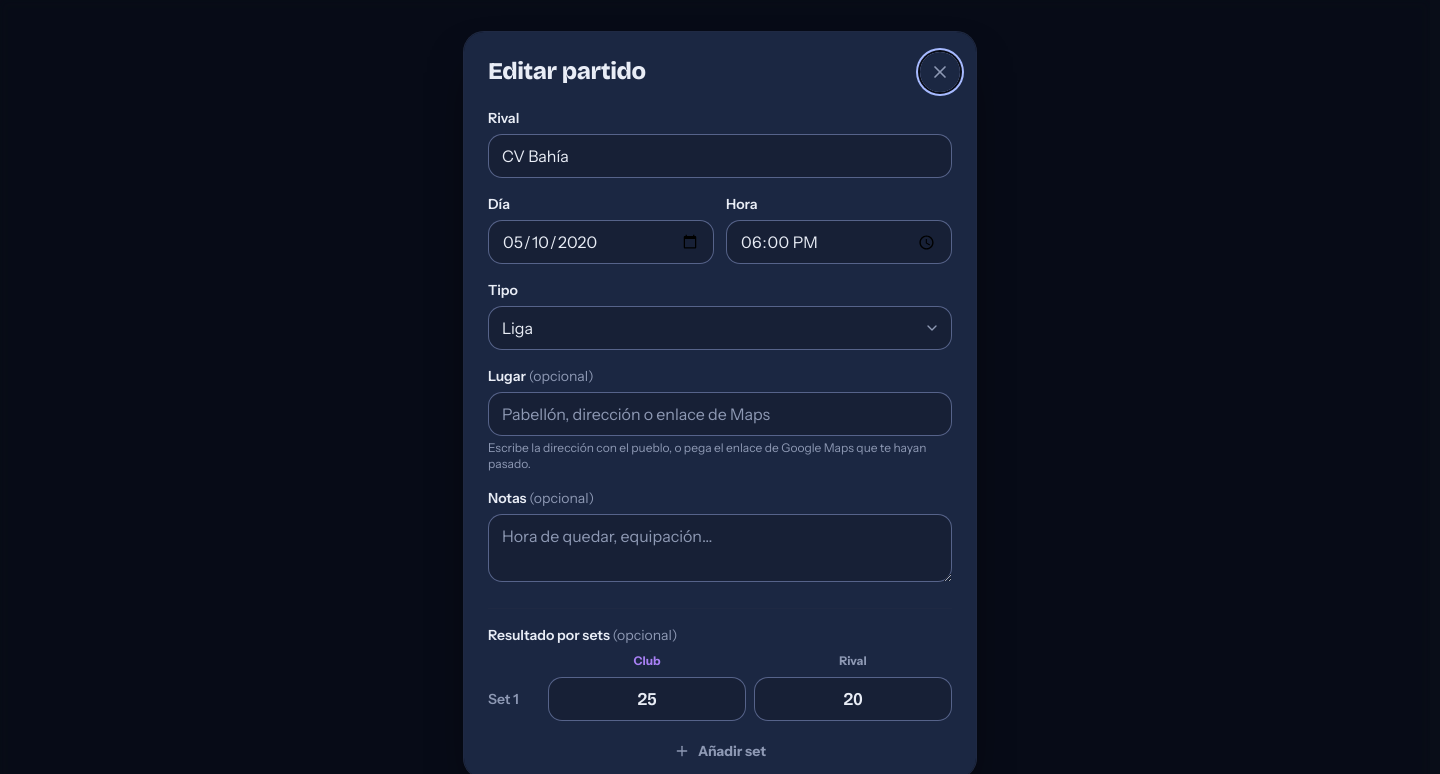
Scenario: MatchDialog › no deja guardar un set empatado ni uno a medias
Replace the text in the field named "Set 1, puntos del rival" with "25" at coordinates (853, 699), box [754,677,952,721]
(page scrolled)
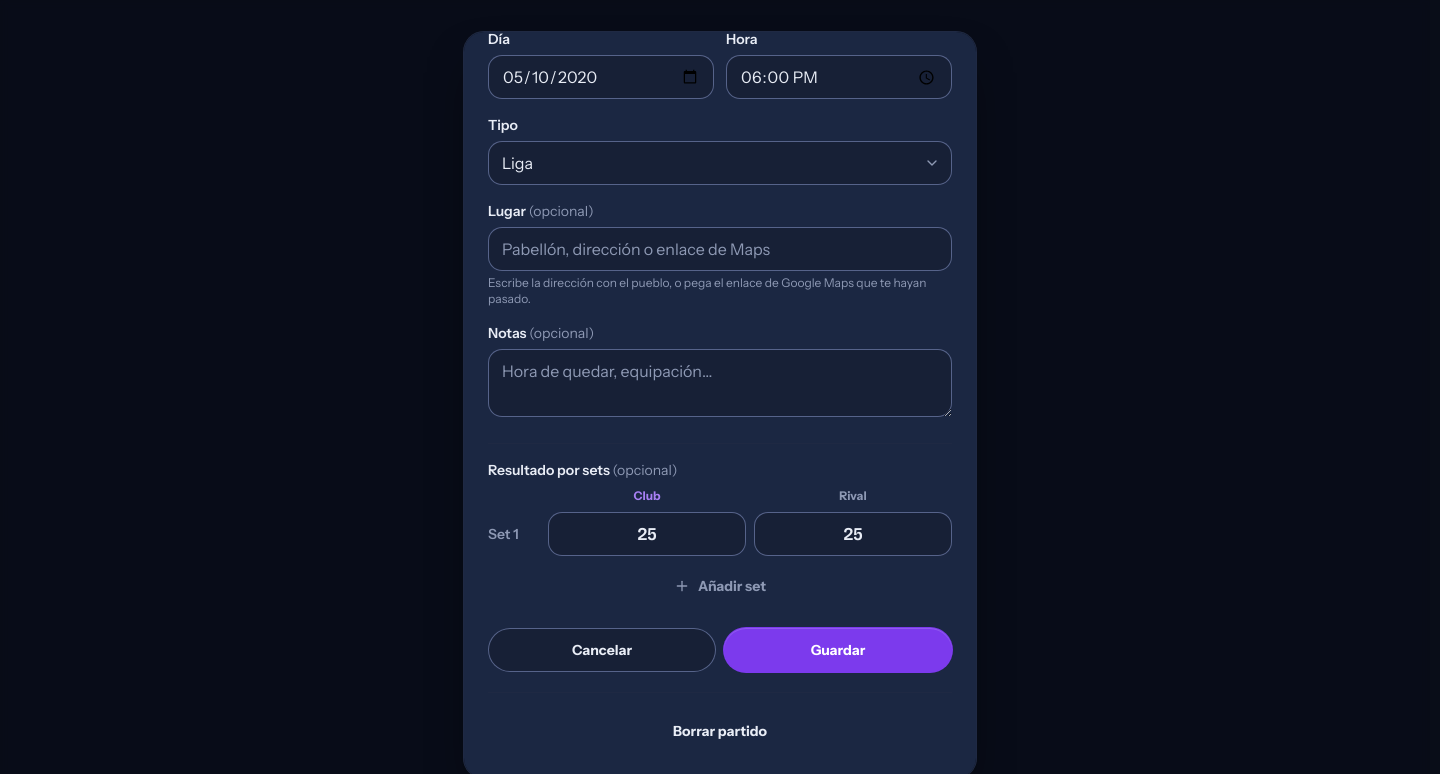
Click the button "Guardar" at coordinates (838, 650), box [724,628,952,672]
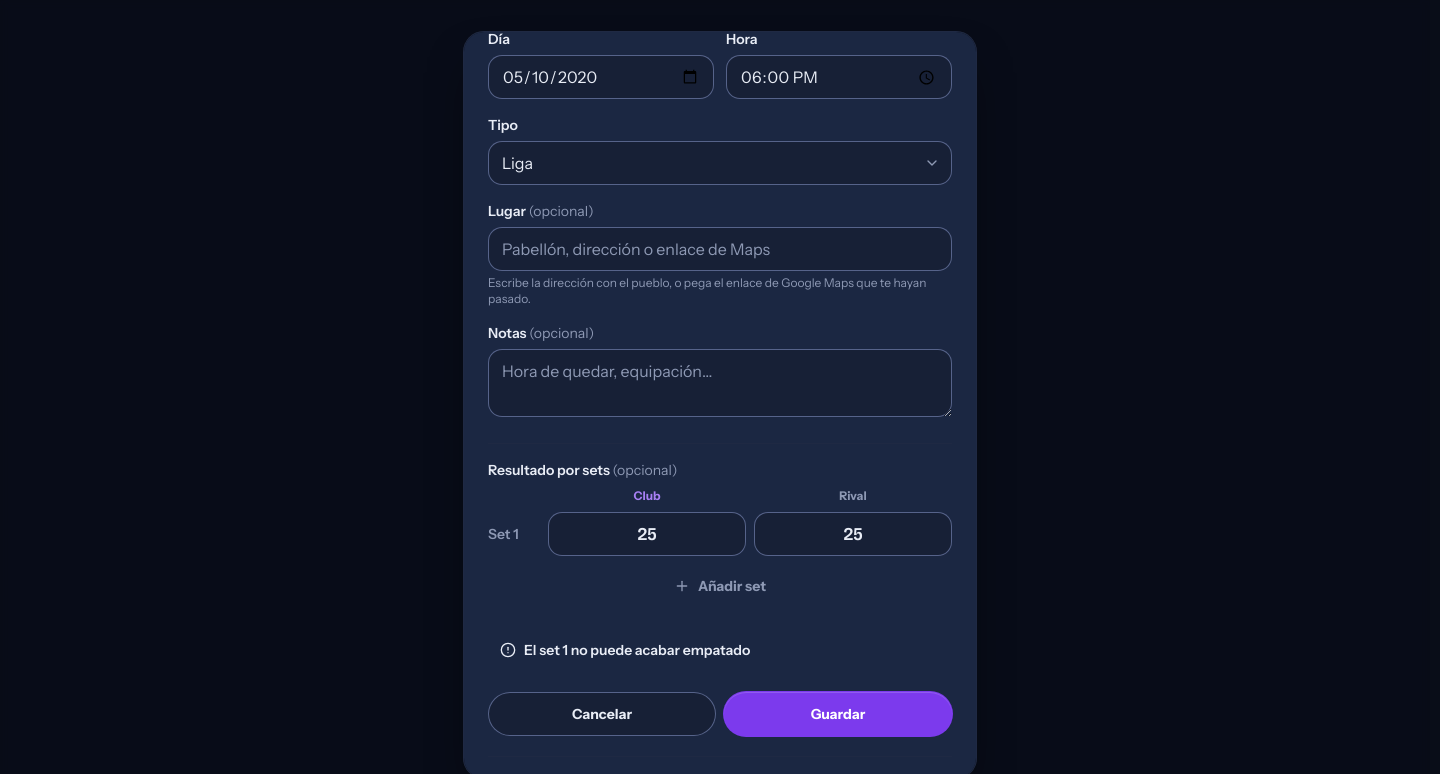
Now the message reads "El set 1 no puede acabar empatado", box [524,641,750,659]
Clear the field named "Set 1, puntos del rival" at coordinates (853, 534), box [754,512,952,556]
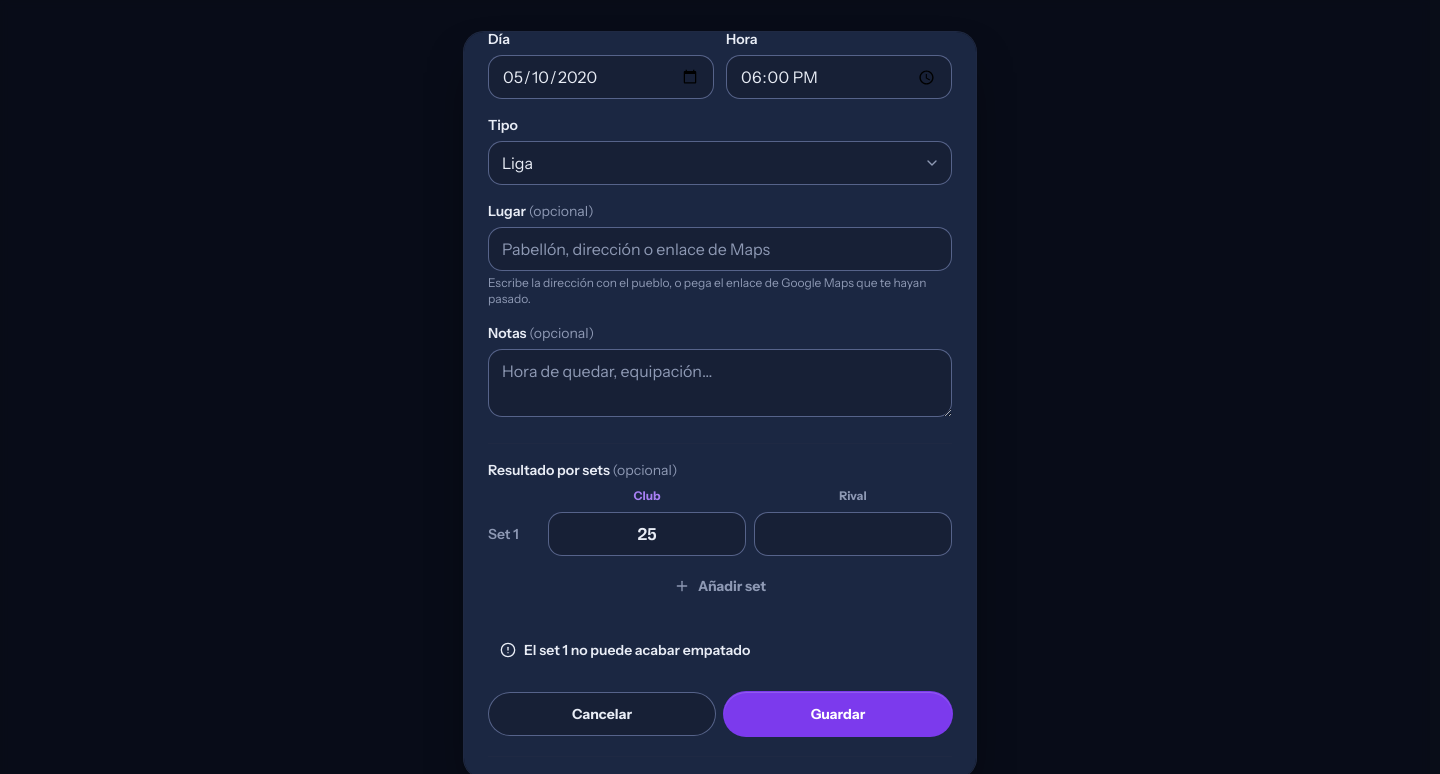
Click the button "Guardar" at coordinates (838, 714), box [724,692,952,736]
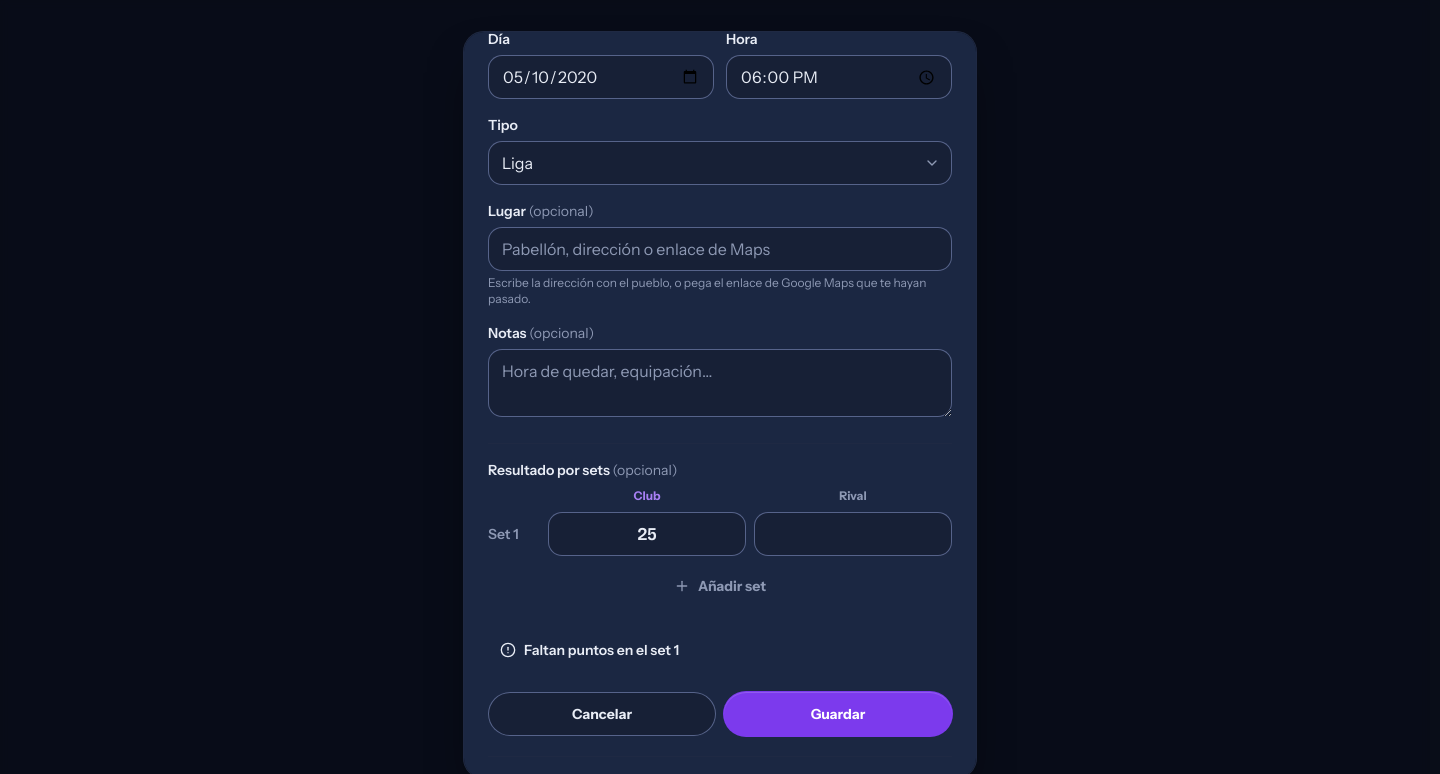
Now the message reads "Faltan puntos en el set 1", box [524,641,679,659]
